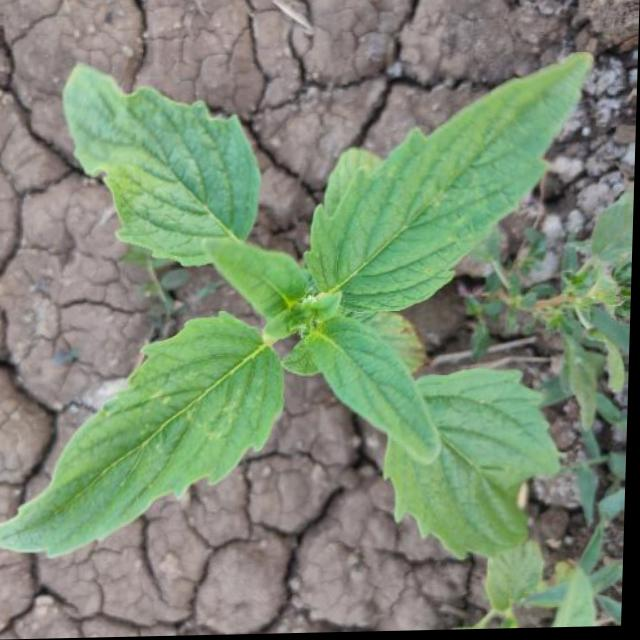crop: (16, 50, 588, 567)
